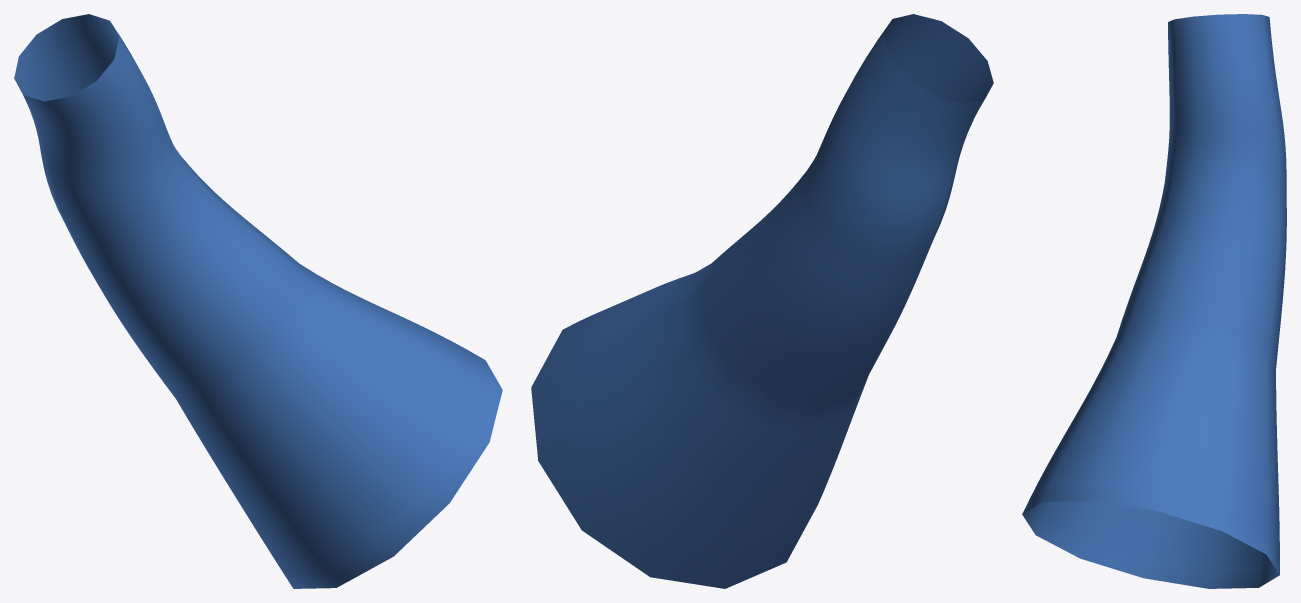
The picture shows the model from 3 angles, left to right: view 1: azimuth 30°, elevation 25°; view 2: azimuth 150°, elevation 25°; view 3: azimuth 270°, elevation 25°; orthographic projection. The views are drawn at different scales.
Parts seen in each view (by area): view 1: 右肾静脉; view 2: 右肾静脉; view 3: 右肾静脉.
Boxes of the visible parts, x1,y1,x2,y2 form: 右肾静脉: (14,14,502,588); 右肾静脉: (531,14,993,588); 右肾静脉: (1022,14,1286,588).
Bounding box in the file's own units: 0.0314 × 0.0403 × 0.0191.
